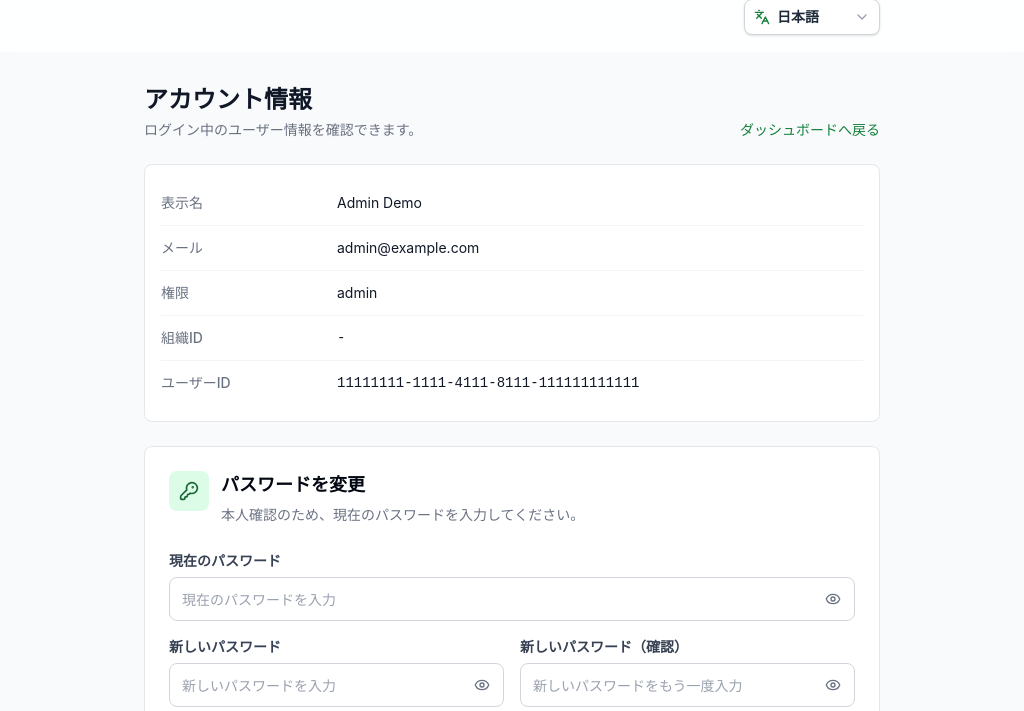
Test: AccountPage password change › validates password confirmation before sending a request
Type "Current1234" into the password field labelled "現在のパスワード" at [512, 599], box [169,577,855,621]
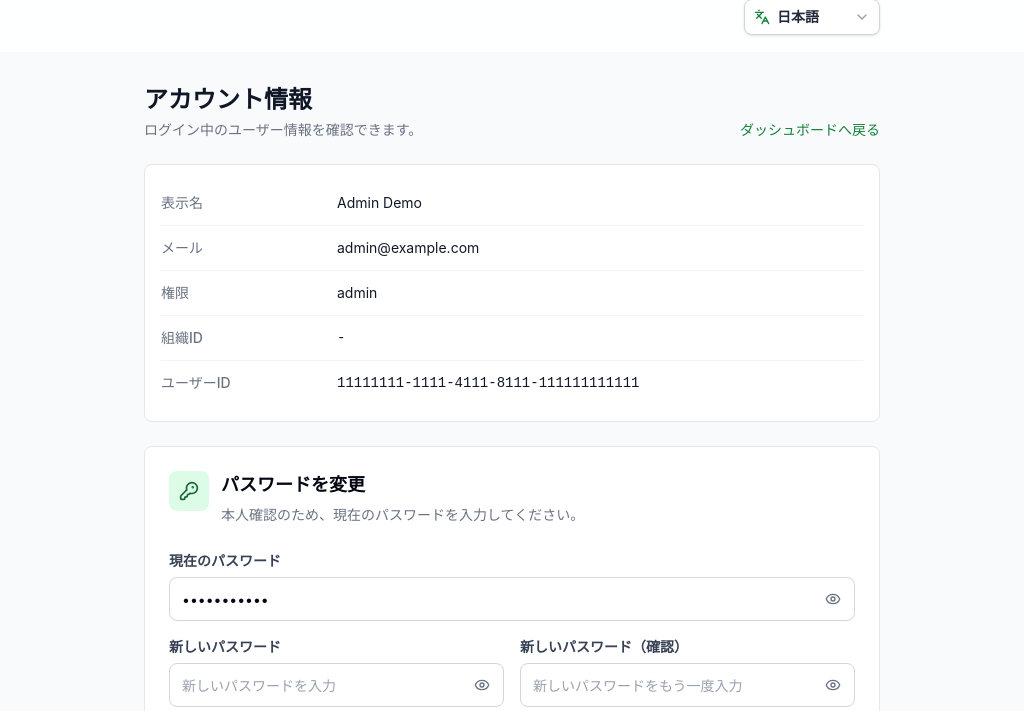
Type "Replacement5678" into the password field labelled "新しいパスワード" at [336, 685], box [169,663,504,707]
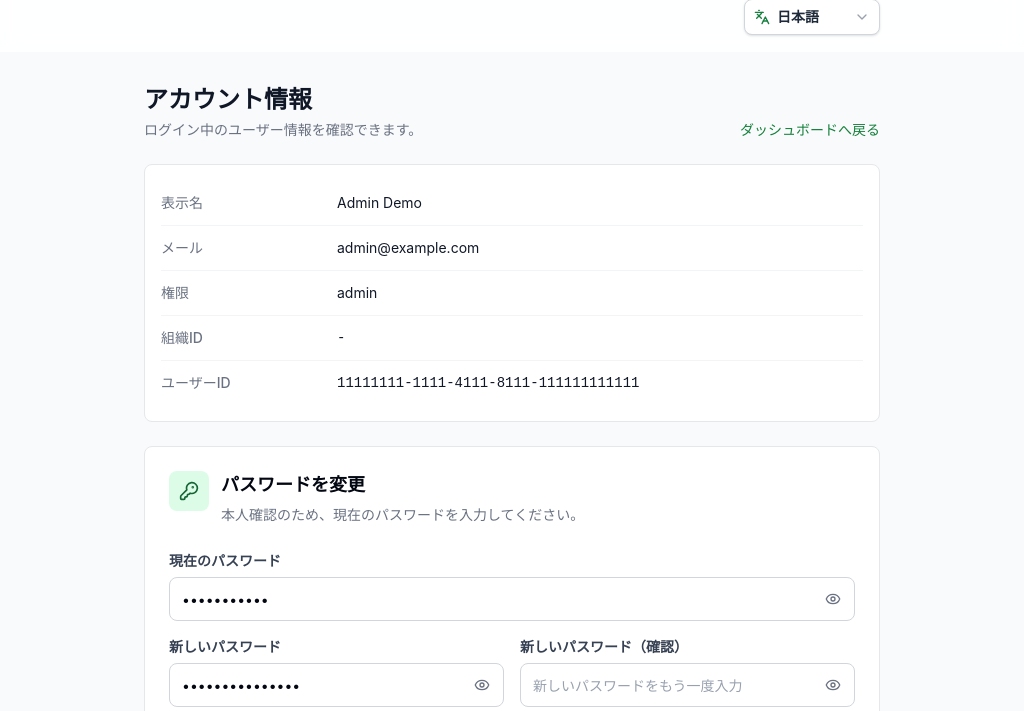
Type "Different5678" into the password field labelled "新しいパスワード（確認）" at [688, 685], box [520,663,855,707]
(page scrolled)
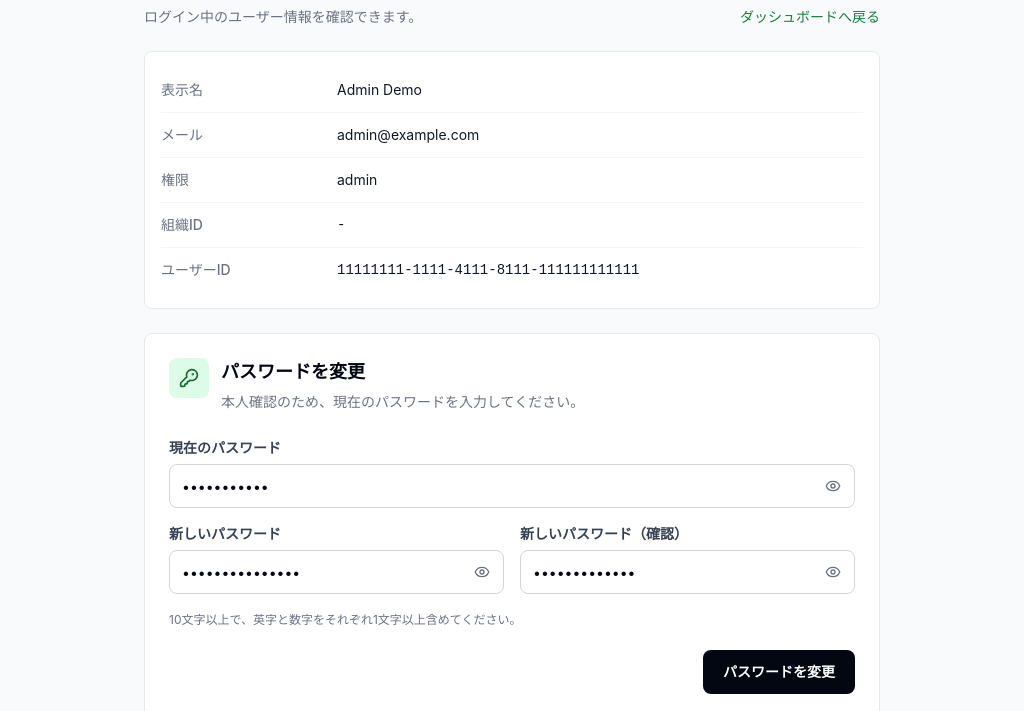
Click the button "パスワードを変更" at [779, 672], box [703,650,855,694]
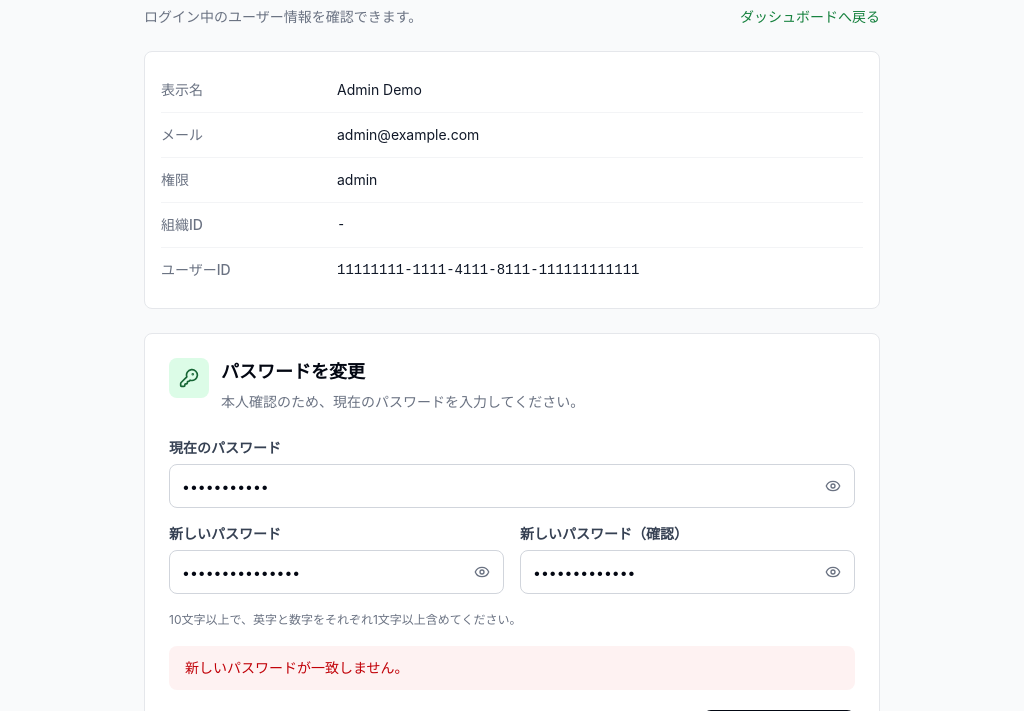
expect the message reads "新しいパスワードが一致しません。": met, box [185,659,409,676]
